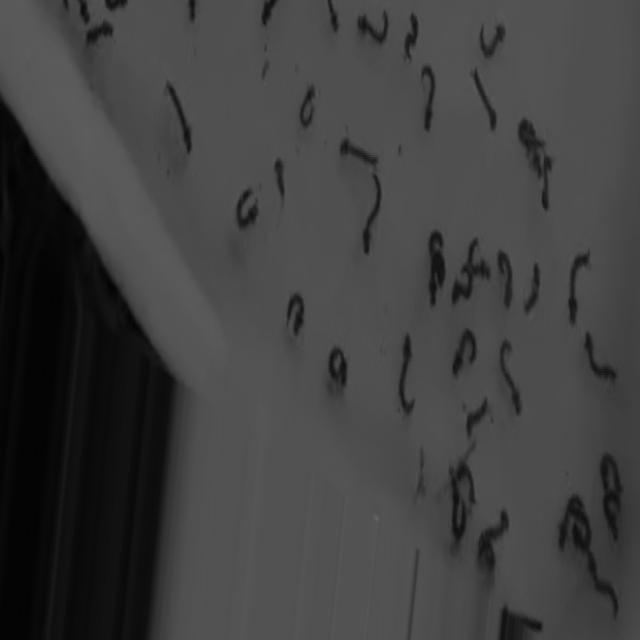larvas: (588, 547, 621, 610), (582, 331, 618, 377), (502, 338, 523, 414), (170, 81, 192, 153), (568, 250, 590, 322), (362, 172, 381, 255), (472, 68, 498, 124), (398, 328, 414, 414), (428, 228, 446, 302), (502, 603, 540, 635), (496, 251, 516, 311), (519, 116, 542, 168), (452, 328, 479, 372), (556, 499, 580, 547), (338, 138, 379, 166), (483, 511, 511, 549), (358, 7, 391, 39), (470, 234, 491, 284), (604, 494, 622, 545), (420, 68, 434, 132), (480, 24, 505, 58), (237, 190, 258, 230), (452, 481, 466, 540), (525, 264, 541, 314), (573, 508, 592, 550), (453, 265, 475, 301), (288, 292, 306, 335), (403, 13, 420, 58), (600, 453, 620, 491), (329, 350, 350, 384), (300, 82, 314, 129), (466, 399, 488, 428), (541, 156, 553, 209), (458, 465, 474, 503), (59, 0, 91, 18), (85, 22, 112, 41), (322, 0, 340, 27), (273, 158, 288, 190), (261, 0, 278, 27), (104, 0, 129, 10), (188, 0, 196, 25)
